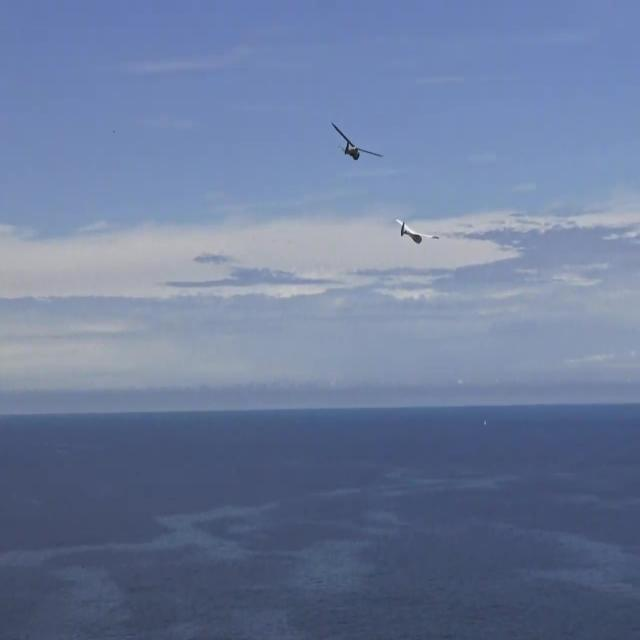iha: (330, 122, 383, 160), (396, 219, 440, 245)
